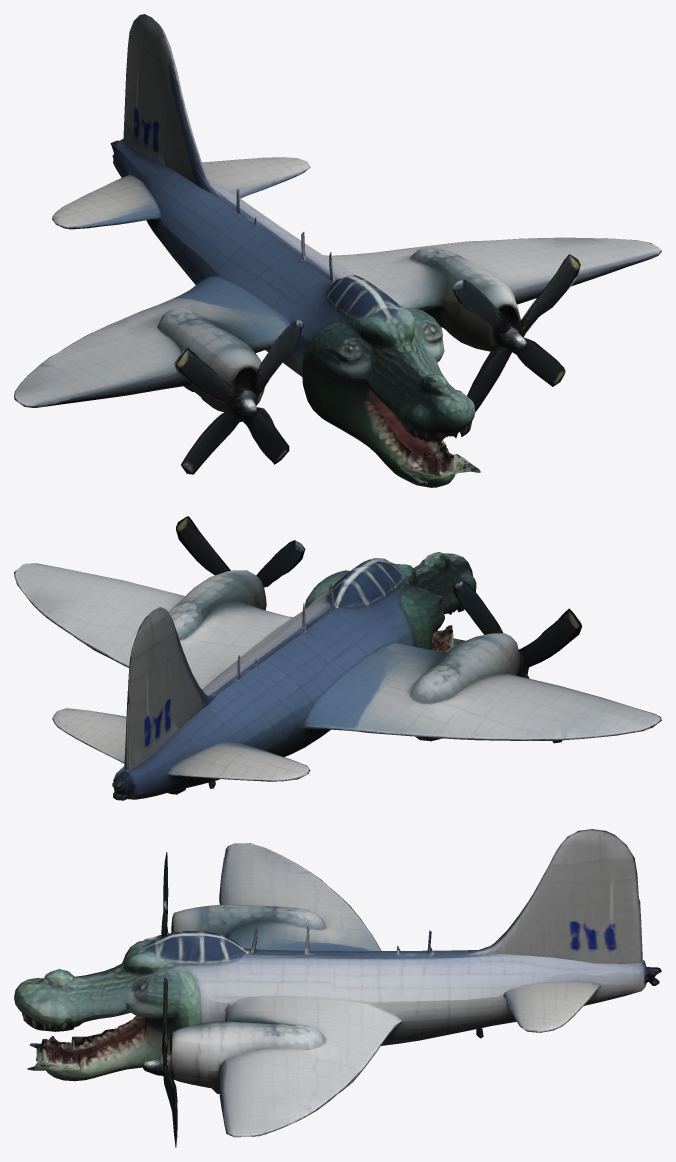
The model's file is bombarCroco.fbx.
The picture shows the model from 3 angles, top to bottom: view 1: azimuth 30°, elevation 25°; view 2: azimuth 150°, elevation 25°; view 3: azimuth 270°, elevation 25°; orthographic projection. The views are drawn at different scales.
Parts seen in each view (by area): view 1: node_6255358c_fff3_488f_95ce_b433e965a3f0_mesh0; view 2: node_6255358c_fff3_488f_95ce_b433e965a3f0_mesh0; view 3: node_6255358c_fff3_488f_95ce_b433e965a3f0_mesh0.
Part boxes in pixels (bbox=[...]): node_6255358c_fff3_488f_95ce_b433e965a3f0_mesh0: bbox=[14, 14, 661, 487]; node_6255358c_fff3_488f_95ce_b433e965a3f0_mesh0: bbox=[14, 516, 661, 800]; node_6255358c_fff3_488f_95ce_b433e965a3f0_mesh0: bbox=[14, 829, 661, 1147].
Size of the model in its own units: 100 by 39.23 by 93.5.
1 material, 1 textured.
